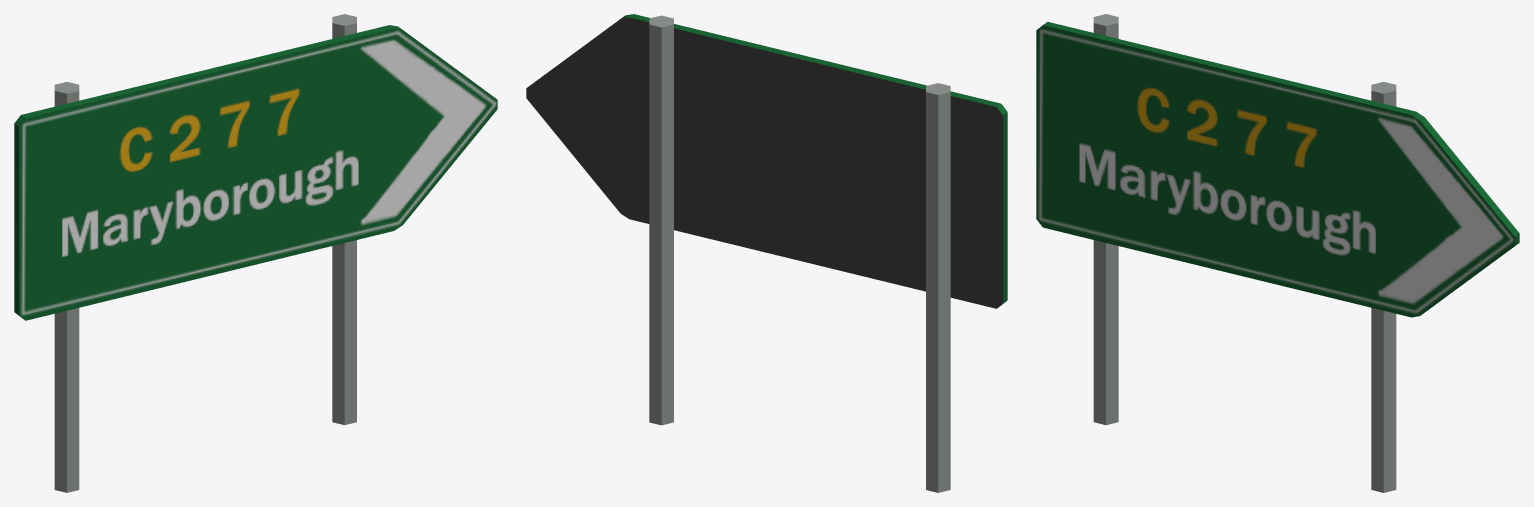
The model's file is Sign_01.fbx.
3 renders of one model, left to right at view 1: azimuth 30°, elevation 25°; view 2: azimuth 150°, elevation 25°; view 3: azimuth 330°, elevation 25°, orthographic.
Parts seen in each view (by area): view 1: Sign_01; view 2: Sign_01; view 3: Sign_01.
Part boxes in pixels (box(x1,y1,x2,y2)): Sign_01: box(14, 14, 497, 492); Sign_01: box(526, 14, 1007, 492); Sign_01: box(1036, 14, 1519, 492).
Size of the model in its own units: 386 by 308 by 23.92.
Materials: 1 (1 with a texture image).
